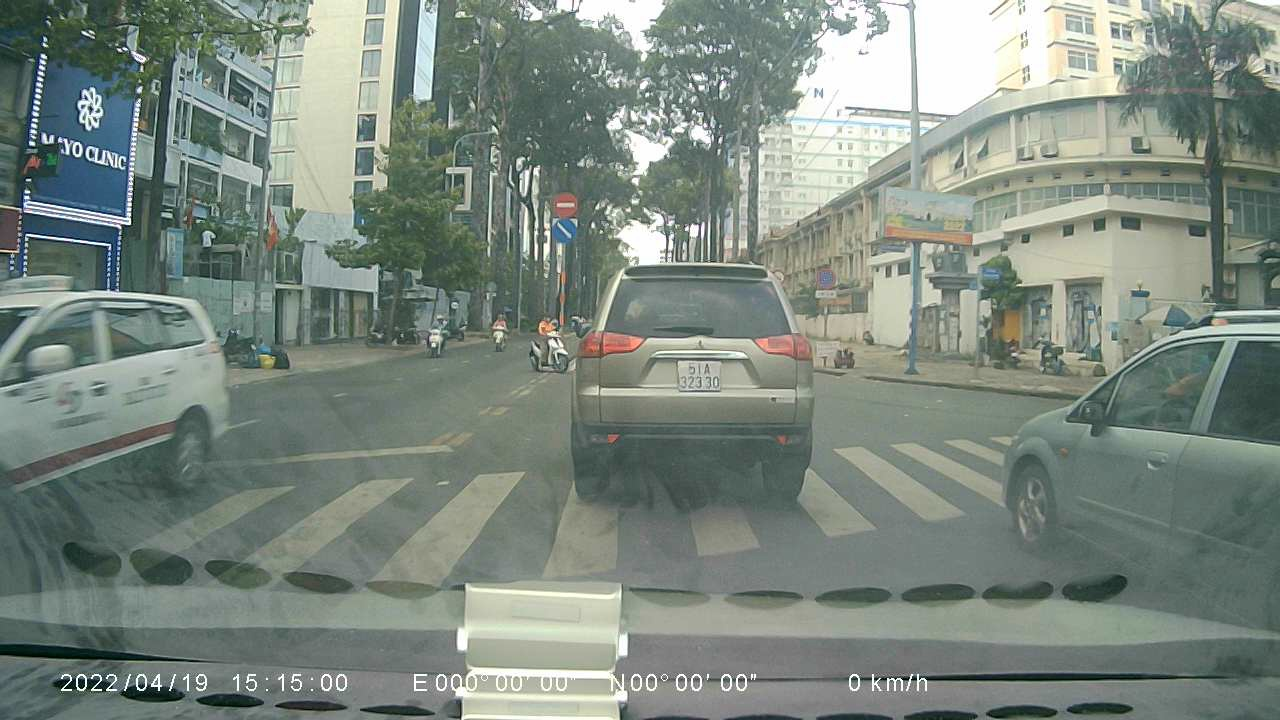Cam di nguoc chieu: (552, 192, 582, 214)
Huong di phai re phai: (552, 216, 577, 242)
